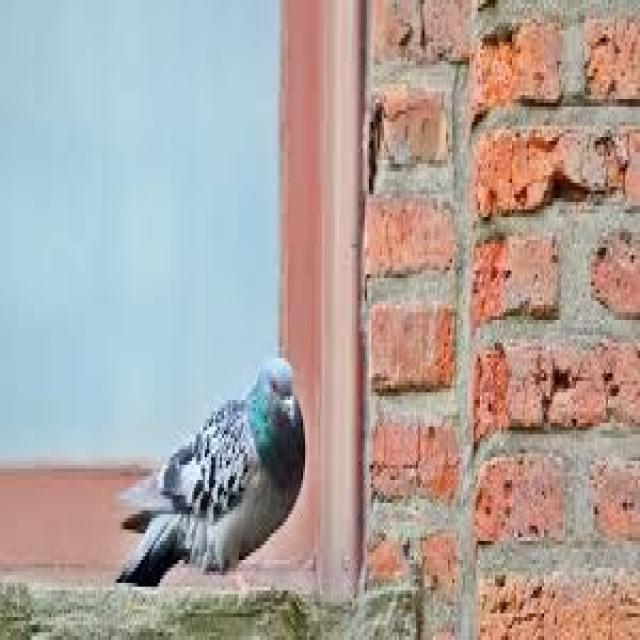pigeon: (119, 350, 336, 610)
